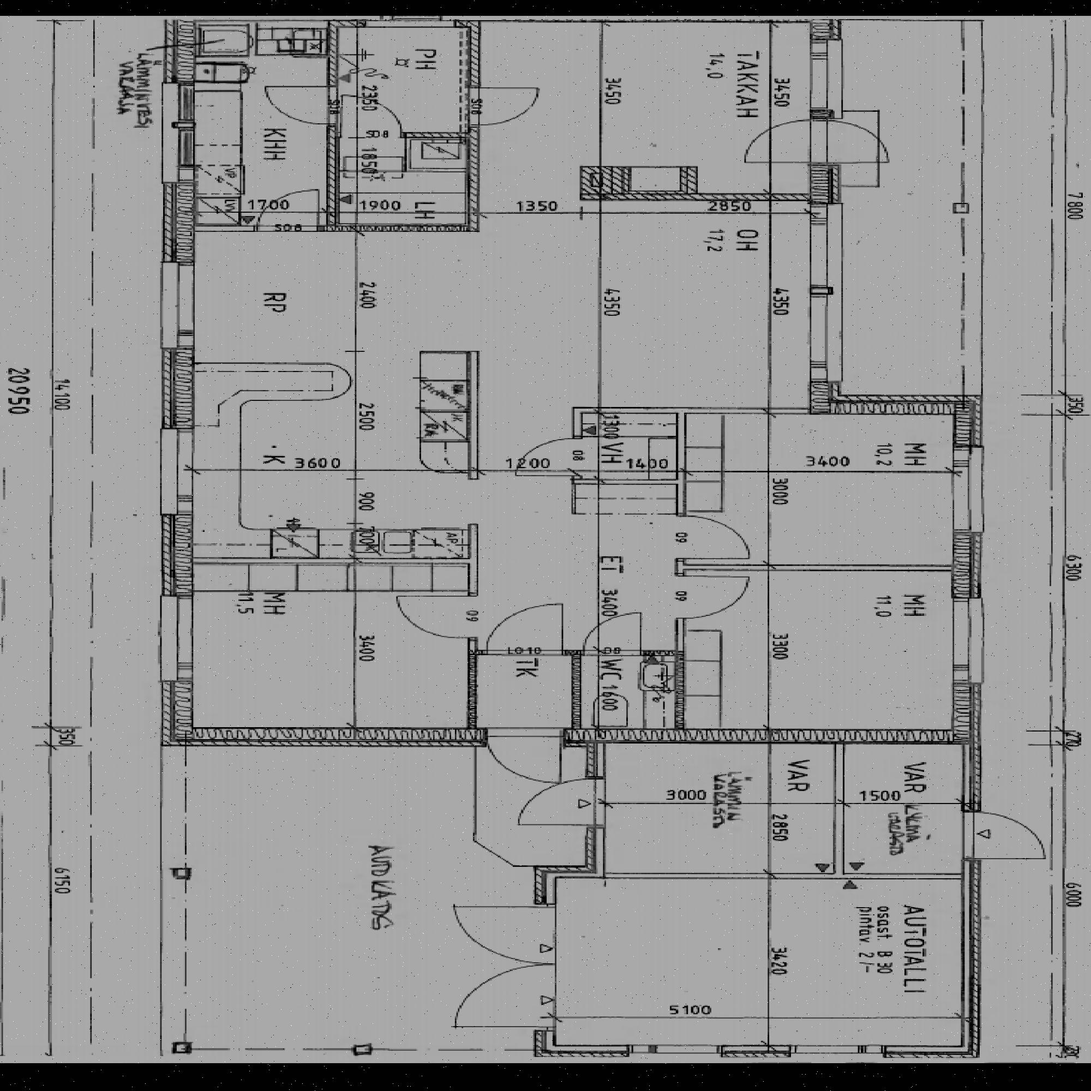wall: (163, 3, 193, 746), (811, 3, 842, 413), (954, 393, 984, 745), (162, 728, 587, 746), (163, 3, 479, 27), (479, 3, 842, 22), (586, 728, 984, 745), (964, 745, 984, 1058), (535, 1046, 984, 1058), (535, 866, 555, 1058), (811, 394, 984, 413), (586, 728, 606, 879), (470, 352, 478, 728), (842, 3, 984, 20), (676, 478, 685, 728), (469, 27, 478, 233), (329, 27, 338, 227), (606, 873, 964, 878), (192, 227, 478, 232), (676, 565, 954, 570), (192, 560, 470, 565), (581, 195, 810, 201), (478, 650, 676, 656), (573, 408, 810, 413), (581, 167, 614, 201), (835, 745, 843, 873), (535, 866, 606, 879), (329, 133, 469, 138), (676, 408, 685, 479), (573, 650, 581, 728), (573, 408, 581, 484), (573, 479, 684, 484)
